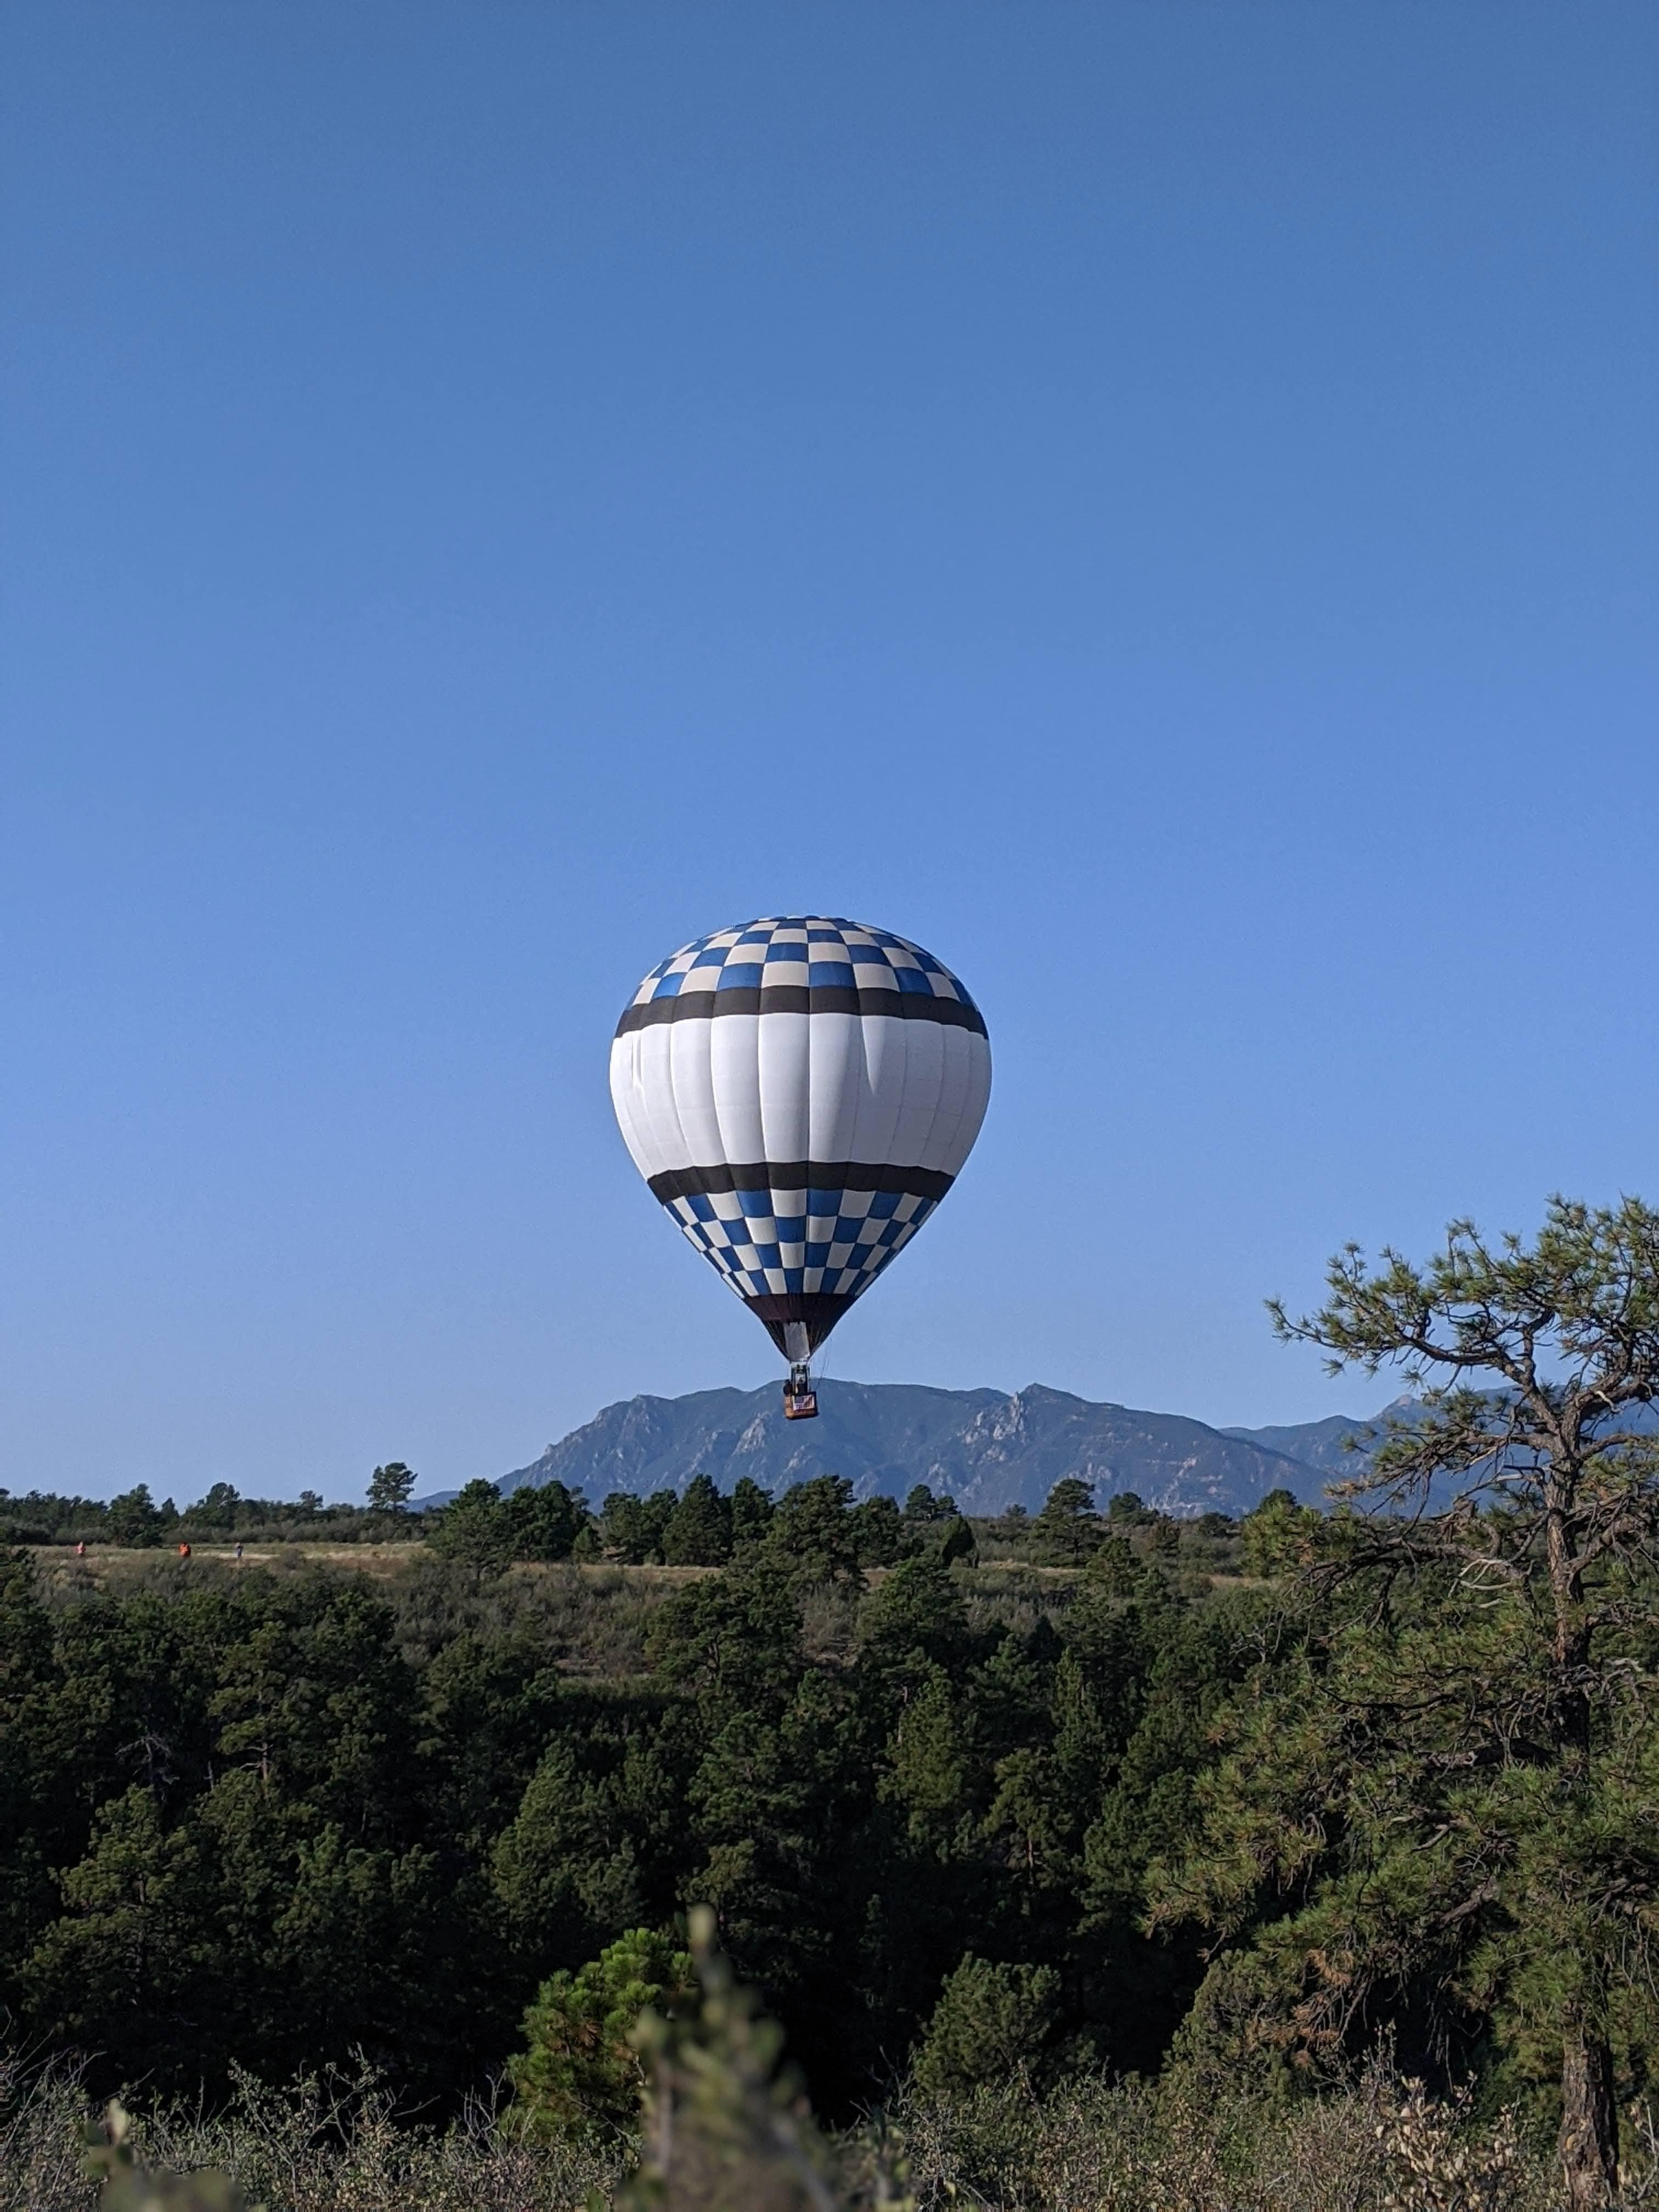hot air ballon: (606, 911, 995, 1420)
